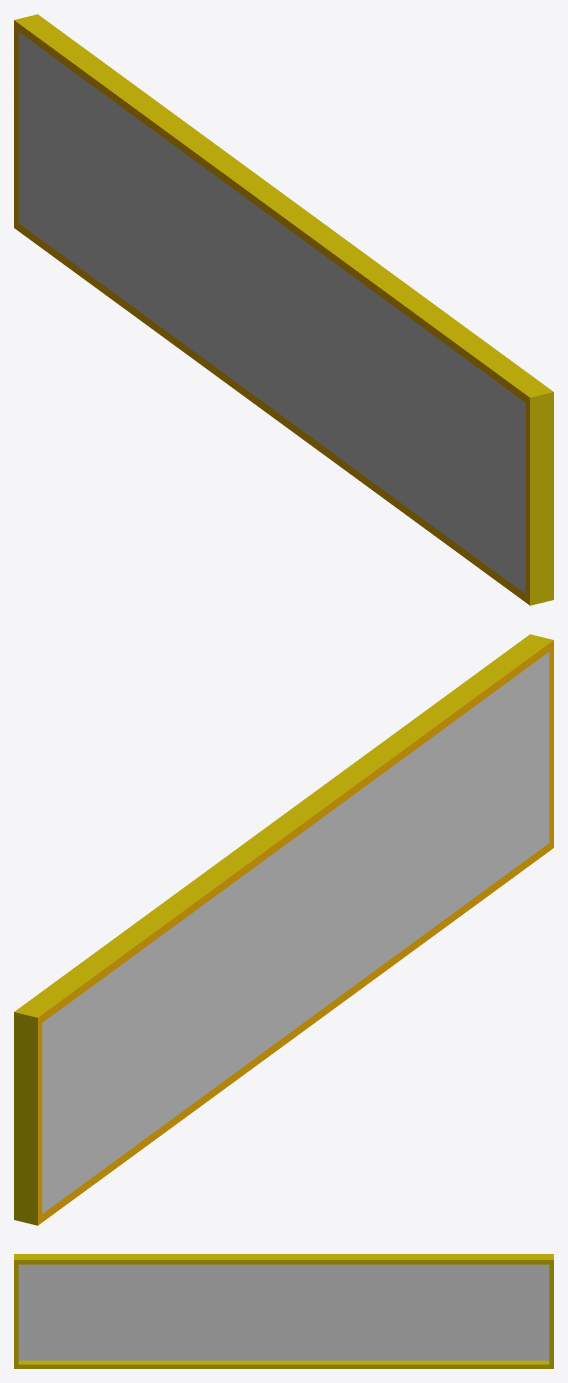
Rendered from window_9x2.dae.
3 views of the same model, one above another, from view 1: azimuth 30°, elevation 25°; view 2: azimuth 150°, elevation 25°; view 3: azimuth 270°, elevation 25° (orthographic). The views are drawn at different scales.
Visible parts, largest first — view 1: Cube; view 2: Cube; view 3: Cube.
Part boxes in pixels (left/top/right/bottom): Cube: left=14, top=14, right=553, bottom=605; Cube: left=14, top=634, right=553, bottom=1225; Cube: left=14, top=1254, right=553, bottom=1368.
Bounding box in the file's own units: 0.06 × 2.25 × 0.5.
